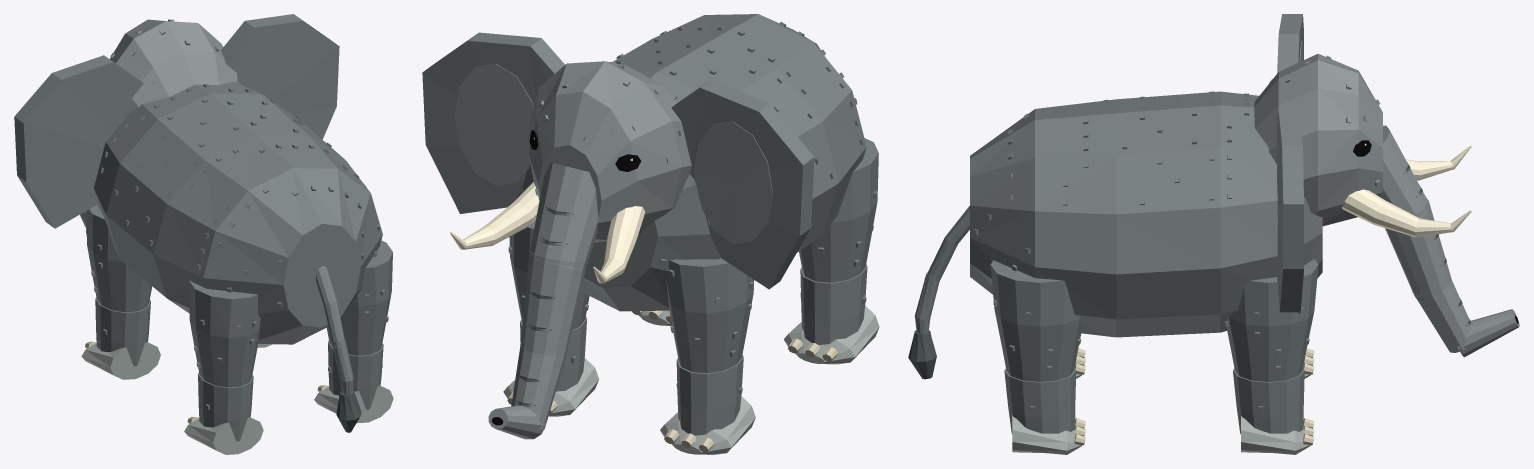
Rendered from Elephant.fbx.
The picture shows the model from 3 angles, left to right: view 1: azimuth 30°, elevation 25°; view 2: azimuth 150°, elevation 25°; view 3: azimuth 270°, elevation 25°; orthographic projection. The views are drawn at different scales.
Visible parts, largest first — view 1: Import3D_Core, Import3D_EarL, Import3D_EarR, Import3D_Head, Import3D_LegBL, Import3D_KneeFL, Import3D_KneeBL, Import3D_LegBR, Import3D_LegFL, Import3D_KneeBR, Import3D_Tail1, Import3D_Tail; view 2: Import3D_Core, Import3D_Head, Import3D_EarL, Import3D_EarR, Import3D_LegFL, Import3D_KneeBL, Import3D_KneeFL, Import3D_LegBL, Import3D_Trunk, Import3D_Trunk1, Import3D_KneeFR, Import3D_Trunk2 (+2 smaller); view 3: Import3D_Core, Import3D_Head, Import3D_LegBR, Import3D_LegFR, Import3D_KneeBR, Import3D_KneeFR, Import3D_EarR, Import3D_Trunk1, Import3D_Trunk, Import3D_Trunk2, Import3D_Tail1, Import3D_Trunk3 (+2 smaller).
Part boxes in pixels (x1,y1,x2,y2): Import3D_Core: [93, 81, 382, 344]; Import3D_EarL: [14, 55, 143, 228]; Import3D_EarR: [221, 14, 339, 139]; Import3D_Head: [110, 19, 239, 114]; Import3D_LegBL: [188, 280, 260, 387]; Import3D_KneeFL: [81, 297, 160, 379]; Import3D_KneeBL: [184, 372, 263, 454]; Import3D_LegBR: [326, 240, 392, 355]; Import3D_LegFL: [86, 204, 152, 312]; Import3D_KneeBR: [314, 340, 393, 423]; Import3D_Tail1: [332, 339, 361, 432]; Import3D_Tail: [316, 265, 345, 348]; Import3D_Core: [520, 14, 866, 311]; Import3D_Head: [450, 61, 691, 283]; Import3D_EarL: [671, 79, 814, 289]; Import3D_EarR: [422, 32, 564, 213]; Import3D_LegFL: [666, 258, 753, 373]; Import3D_KneeBL: [784, 264, 879, 364]; Import3D_KneeFL: [660, 354, 755, 454]; Import3D_LegBL: [799, 138, 878, 282]; Import3D_Trunk: [528, 163, 598, 271]; Import3D_Trunk1: [520, 251, 585, 360]; Import3D_KneeFR: [503, 316, 599, 416]; Import3D_Trunk2: [511, 348, 567, 429]; Import3D_Core: [970, 91, 1322, 337]; Import3D_Head: [1254, 53, 1471, 237]; Import3D_LegBR: [990, 260, 1082, 381]; Import3D_LegFR: [1224, 259, 1318, 381]; Import3D_KneeBR: [1004, 368, 1085, 454]; Import3D_KneeFR: [1233, 368, 1314, 454]; Import3D_EarR: [1277, 110, 1303, 312]; Import3D_Trunk1: [1385, 196, 1451, 300]; Import3D_Trunk: [1380, 125, 1429, 218]; Import3D_Trunk2: [1412, 280, 1470, 352]; Import3D_Tail1: [908, 272, 939, 379]; Import3D_Trunk3: [1457, 309, 1519, 357].
Bounding box in the file's own units: 350 × 336 × 527.
Materials: 1 (1 with a texture image).
